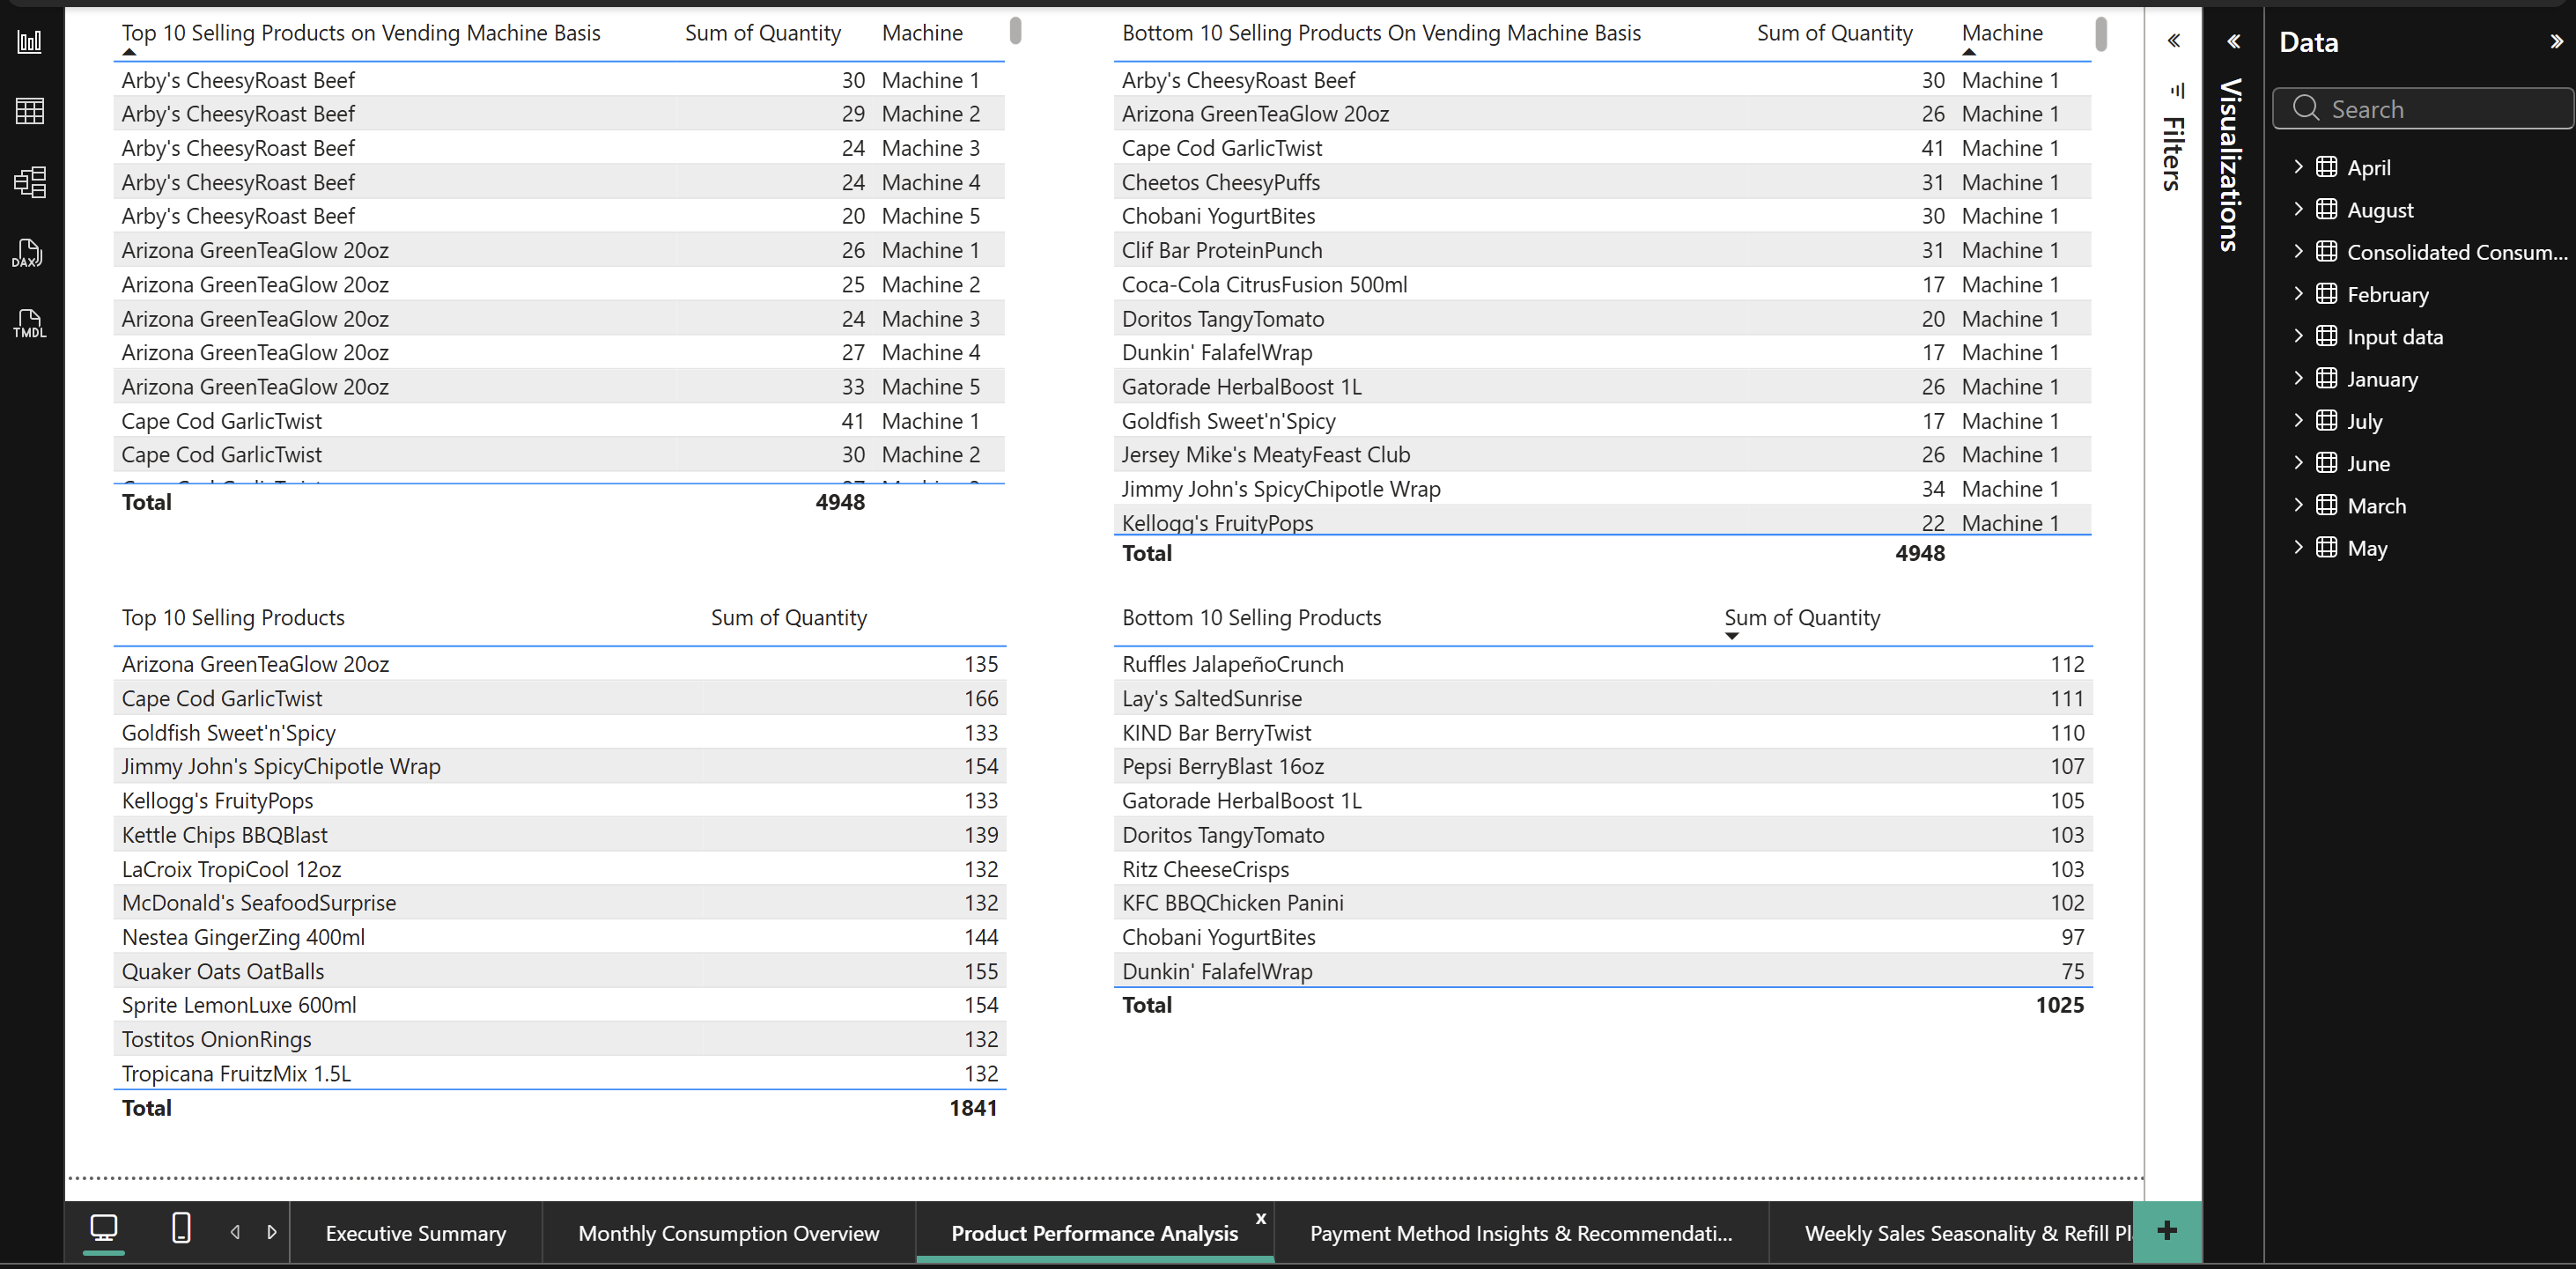

This screenshot's page, from the dashboard's own definition file:
{"tool":"powerbi","page":{"name":"Product Performance Analysis","canvas":[1280,720],"ordinal":2},"visuals":[{"type":"tableEx","fields":{"Values":["Consolidated Consumption.Product","Sum(Consolidated Consumption.Quantity)","Consolidated Consumption.Machine"]},"box":[23.5,0,571.1,319.2],"z":0},{"type":"tableEx","fields":{"Values":["Consolidated Consumption.Product","Sum(Consolidated Consumption.Quantity)","Consolidated Consumption.Machine"]},"box":[640,0,623.7,350.3],"z":1000},{"type":"tableEx","fields":{"Values":["Consolidated Consumption.Product","Sum(Consolidated Consumption.Quantity)"]},"box":[24,360,571,350],"z":2000},{"type":"tableEx","fields":{"Values":["Consolidated Consumption.Product","Sum(Consolidated Consumption.Quantity)"]},"box":[640,360,624,350],"z":3000}]}

Visuals, with their boxes on the page's 1280x720 design canvas (x1, y1, x2, y2). These are canvas units, not pixel positions in the 2576x1269 screenshot, which may show the page scaled, cropped or inside an application window:
tableEx - Consolidated Consumption.Product x Sum(Consolidated Consumption.Quantity): crop(24, 0, 595, 319)
tableEx - Consolidated Consumption.Product x Sum(Consolidated Consumption.Quantity): crop(640, 0, 1264, 350)
tableEx - Consolidated Consumption.Product x Sum(Consolidated Consumption.Quantity): crop(24, 360, 595, 710)
tableEx - Consolidated Consumption.Product x Sum(Consolidated Consumption.Quantity): crop(640, 360, 1264, 710)
